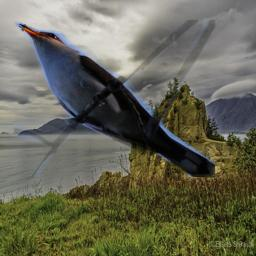Cuckoo: (14, 20, 215, 177)
